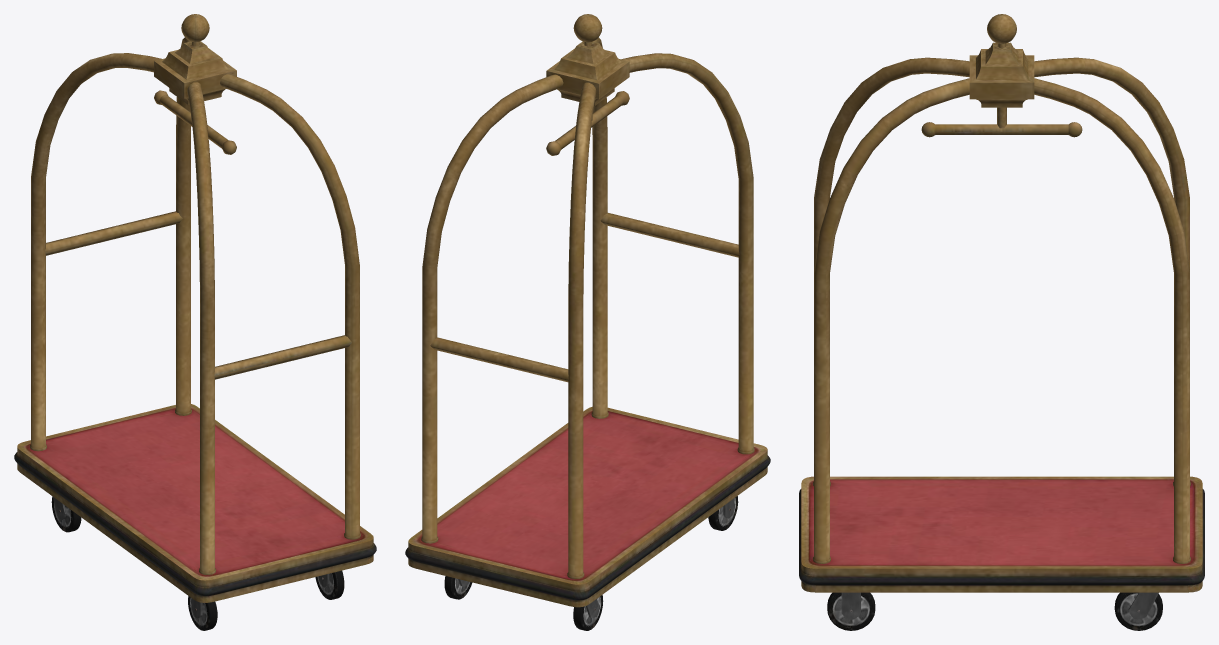
Rendered from trolley.glb.
3 renders of one model, left to right at view 1: azimuth 30°, elevation 25°; view 2: azimuth 150°, elevation 25°; view 3: azimuth 270°, elevation 25°, orthographic. The views are drawn at different scales.
Parts seen in each view (by area): view 1: trolley; view 2: trolley; view 3: trolley.
Part boxes in pixels (x1,y1,x2,y2): trolley: [14, 14, 376, 630]; trolley: [405, 14, 770, 630]; trolley: [799, 14, 1204, 630].
Bounding box in the file's own units: 0.6949 × 2 × 1.27.
Materials: 1 (1 with a texture image).
